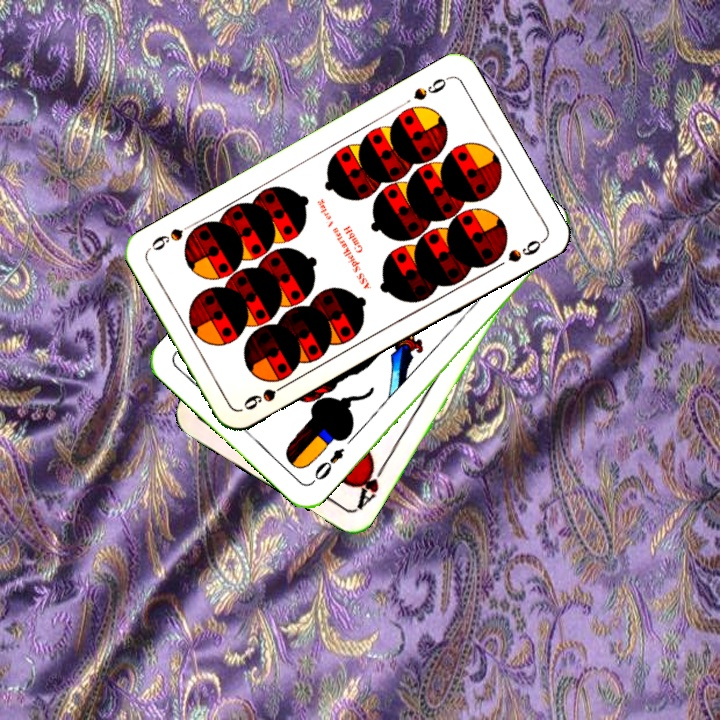EO: (307, 443, 347, 486)
HA: (351, 458, 389, 513)
S9: (239, 377, 293, 413), (409, 72, 453, 103)
